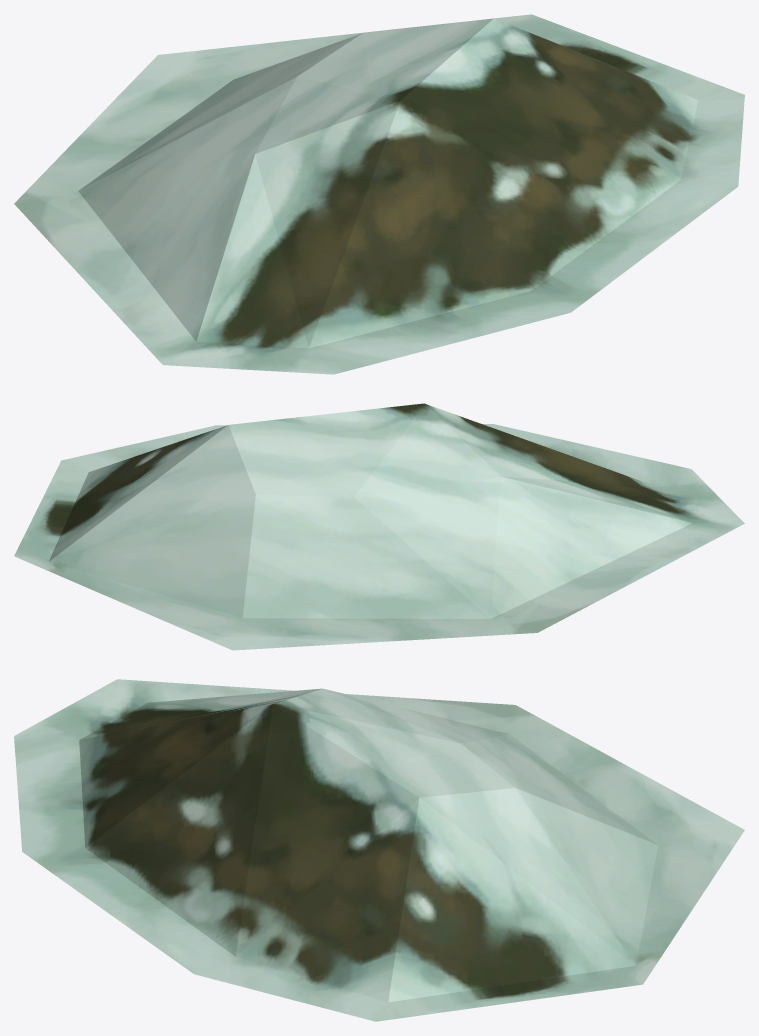
File: miniberm_02.fbx
The picture shows the model from 3 angles, top to bottom: view 1: azimuth 30°, elevation 25°; view 2: azimuth 150°, elevation 25°; view 3: azimuth 270°, elevation 25°; orthographic projection. The views are drawn at different scales.
Parts seen in each view (by area): view 1: obj0.024; view 2: obj0.024; view 3: obj0.024.
Boxes of the visible parts, x1,y1,x2,y2 form: obj0.024: [14, 14, 744, 374]; obj0.024: [14, 403, 744, 650]; obj0.024: [14, 679, 744, 1021].
Bounding box in the file's own units: 9.02 × 1.56 × 8.13.
